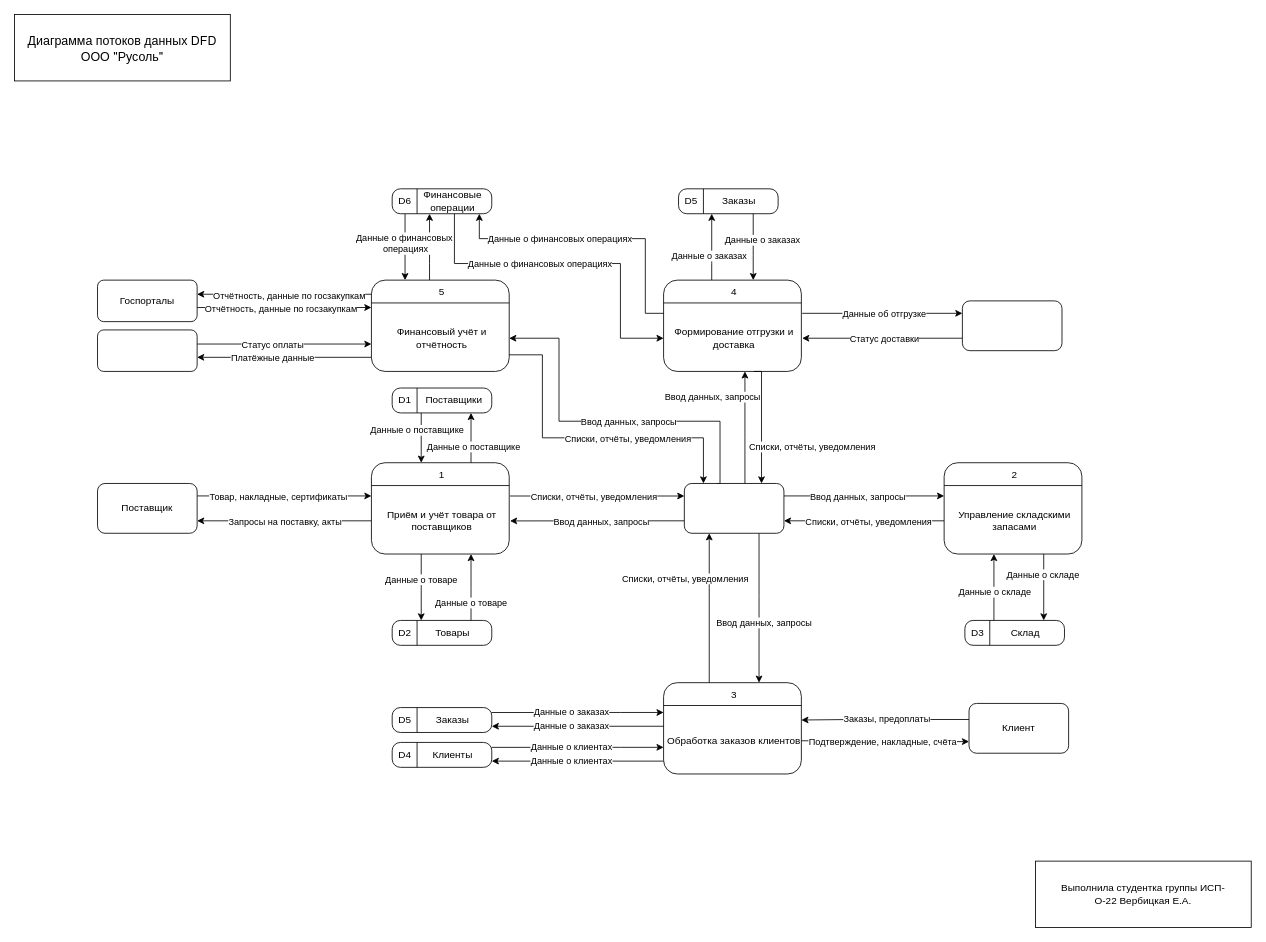
Some shapes in this 1266 by 942 pixel diagram are drawn without their labels. The shapes that lost their labels are listed below. From the top down, each one's centre as x and y in pixels, then its label:
(1012,325): Служба доставки
(147,350): Банковская система
(734,508): Сотрудник
